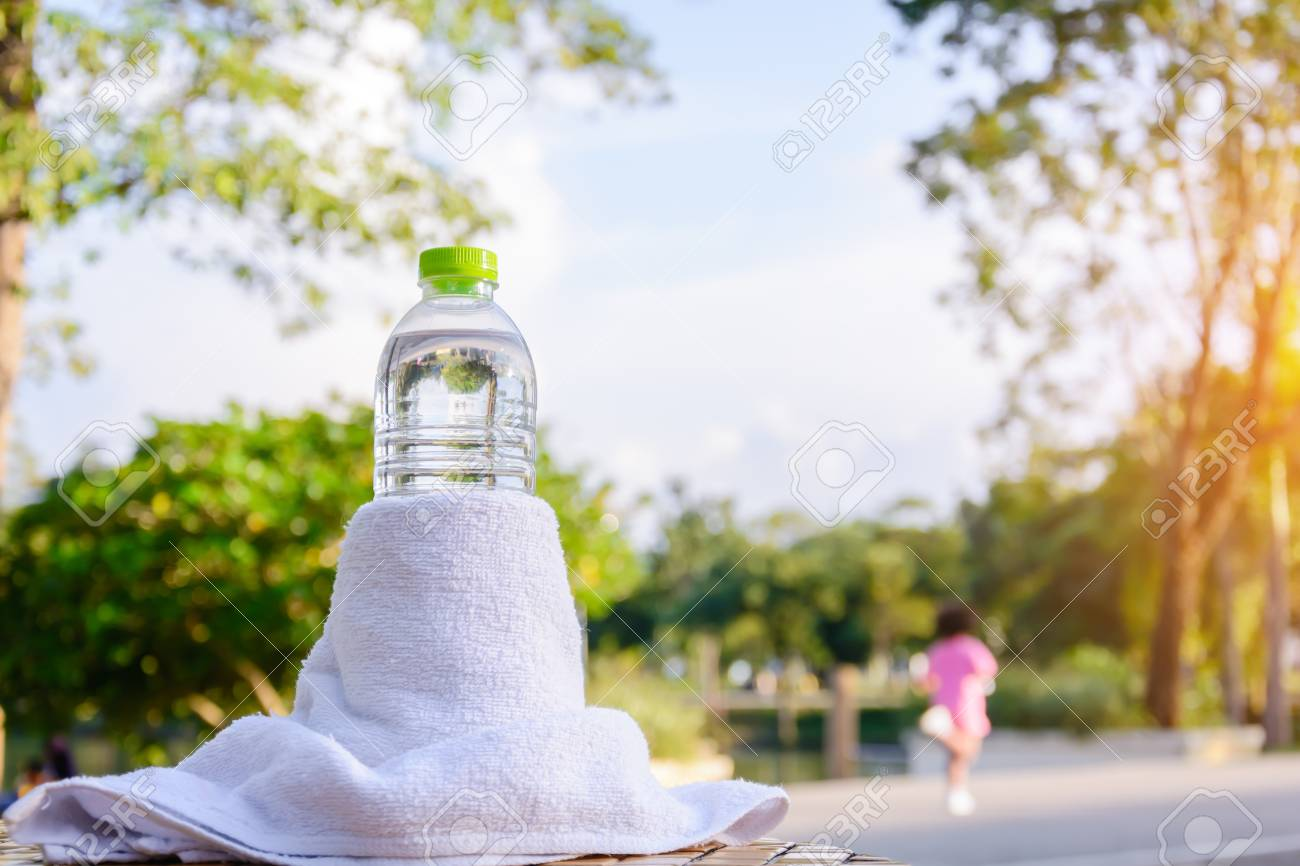bottle: (371, 246, 544, 497)
